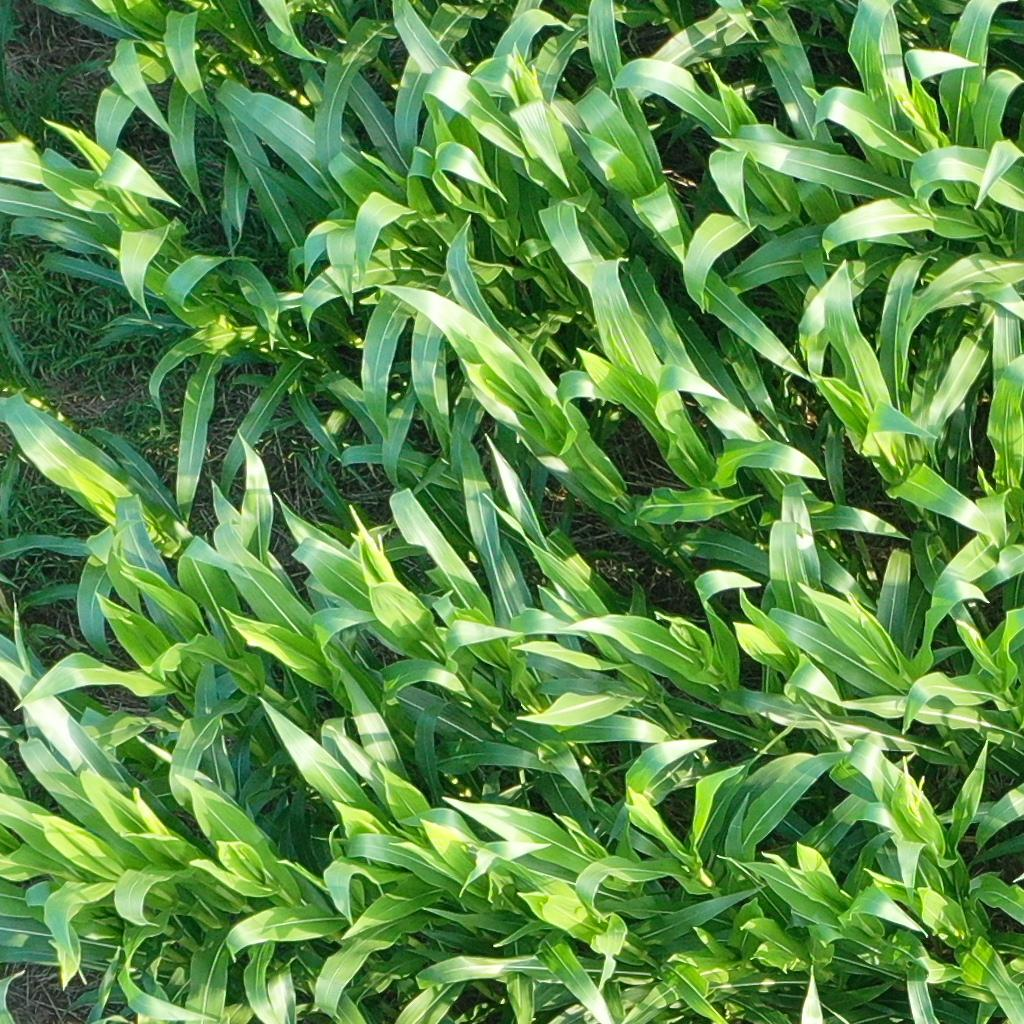Tassel: (889, 749, 932, 824), (342, 501, 386, 561), (501, 38, 535, 83), (954, 612, 986, 646)
